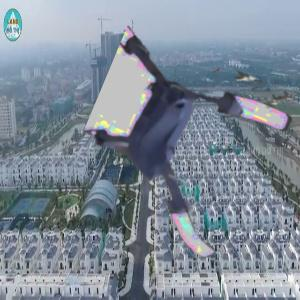drone: (84, 55, 282, 253)
